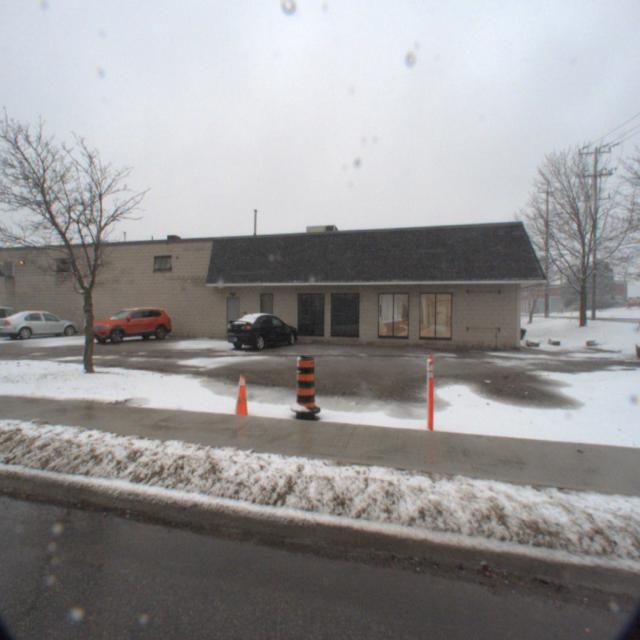Car: (80, 304, 176, 348), (220, 310, 302, 353)
